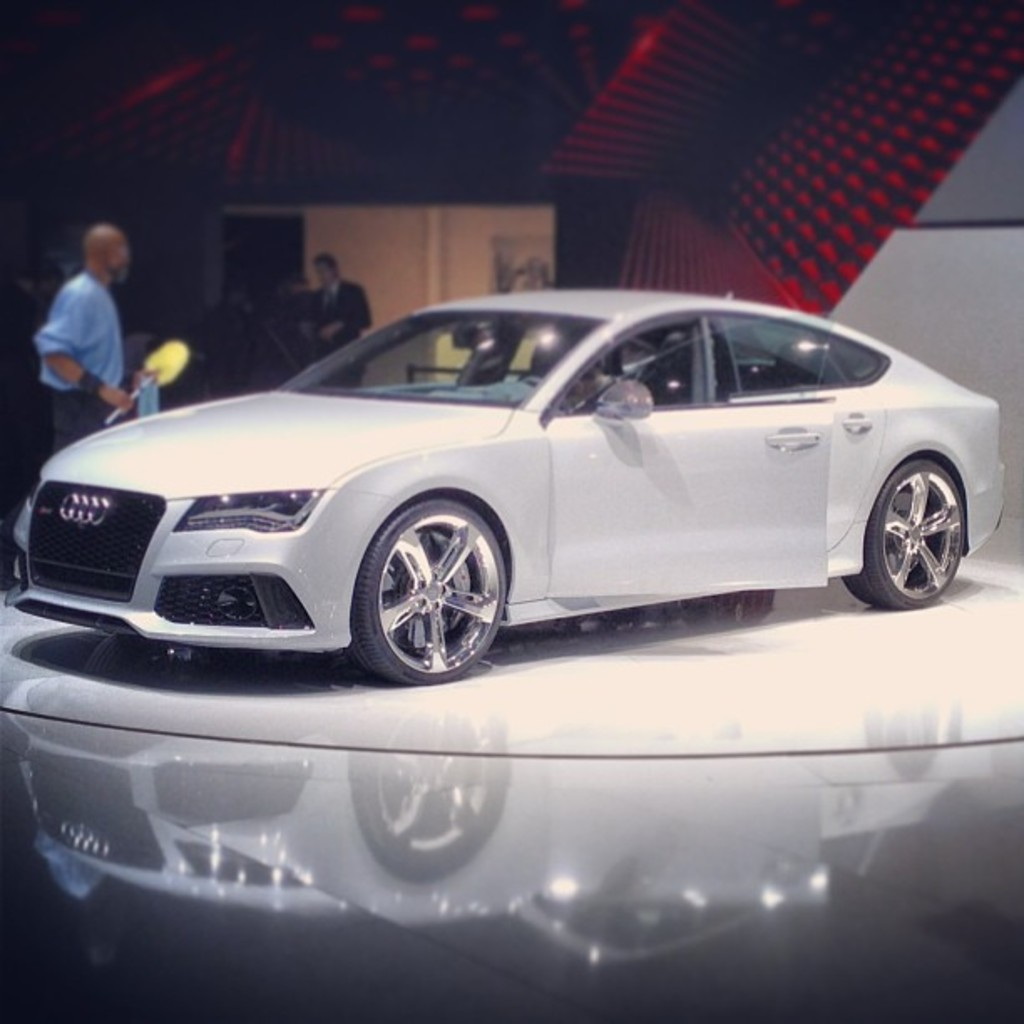Person: (32, 223, 157, 452), (307, 251, 370, 399)
